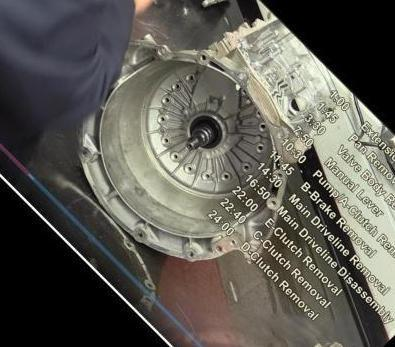hole: (195, 50, 209, 64), (212, 242, 225, 255), (133, 229, 145, 240)
